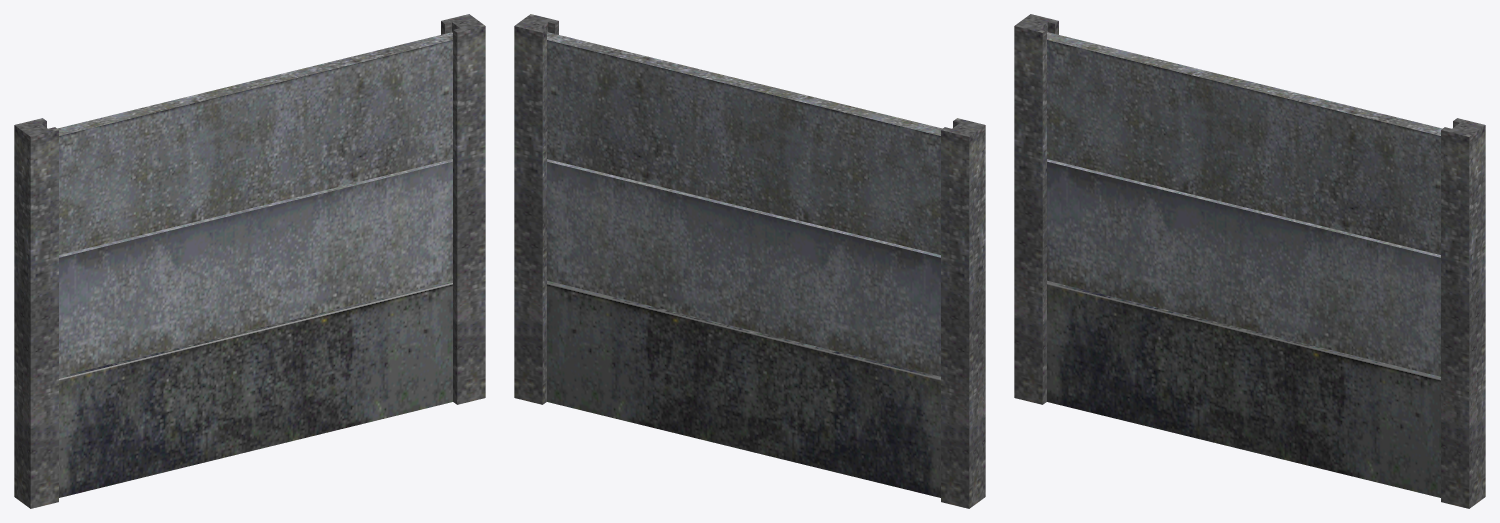
The model's file is Urban_PlackardClosedFull_Model.fbx.
3 renders of one model, left to right at view 1: azimuth 30°, elevation 25°; view 2: azimuth 150°, elevation 25°; view 3: azimuth 330°, elevation 25°, orthographic.
Visible parts, largest first — view 1: Urban_PlackardClosedFull_Mesh; view 2: Urban_PlackardClosedFull_Mesh; view 3: Urban_PlackardClosedFull_Mesh.
Boxes of the visible parts, x1,y1,x2,y2 form: Urban_PlackardClosedFull_Mesh: (14, 14, 485, 508); Urban_PlackardClosedFull_Mesh: (514, 14, 985, 508); Urban_PlackardClosedFull_Mesh: (1014, 14, 1485, 508).
Size of the model in its own units: 3.2 by 2.5 by 0.2.
